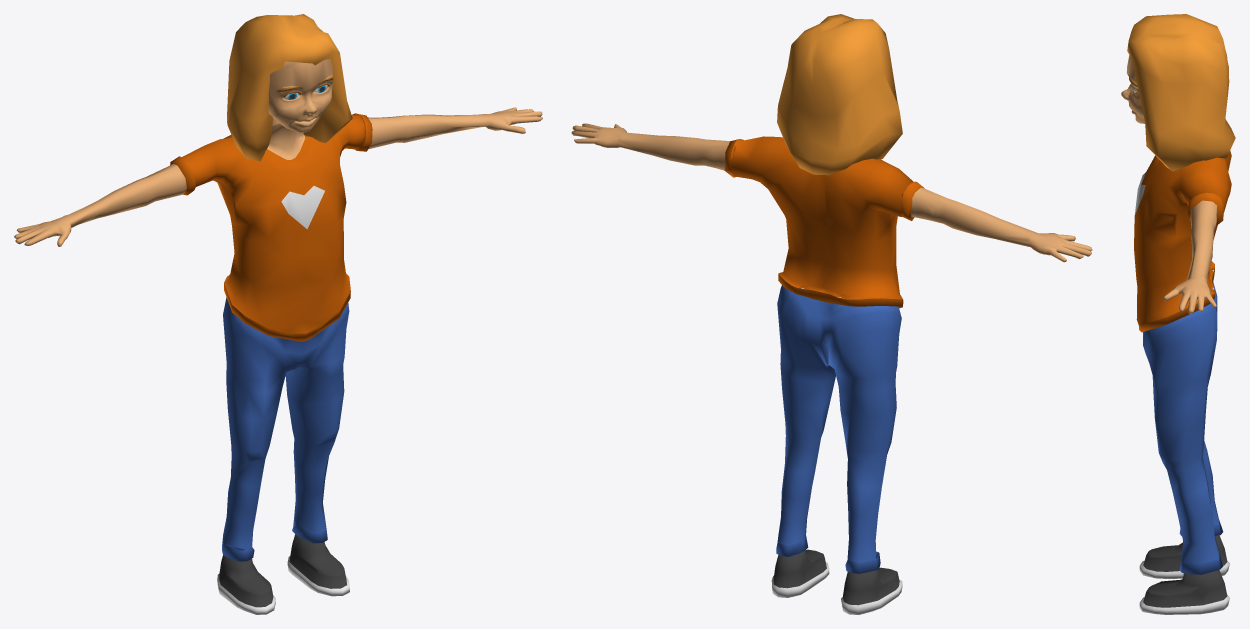
File: Girl_Character2fbx.fbx
The picture shows the model from 3 angles, left to right: view 1: azimuth 30°, elevation 25°; view 2: azimuth 150°, elevation 25°; view 3: azimuth 270°, elevation 25°; orthographic projection.
Parts seen in each view (by area): view 1: FEMALE BASE CHARCATER.005, Sphere.009; view 2: FEMALE BASE CHARCATER.005, Sphere.009; view 3: FEMALE BASE CHARCATER.005, Sphere.009.
Part boxes in pixels (box(x1,y1,x2,y2)): FEMALE BASE CHARCATER.005: box(14, 59, 542, 614); Sphere.009: box(227, 14, 352, 161); FEMALE BASE CHARCATER.005: box(571, 123, 1092, 614); Sphere.009: box(777, 14, 902, 175); FEMALE BASE CHARCATER.005: box(1121, 55, 1231, 614); Sphere.009: box(1127, 14, 1235, 171).
Size of the model in its own units: 207 by 215 by 39.28.
